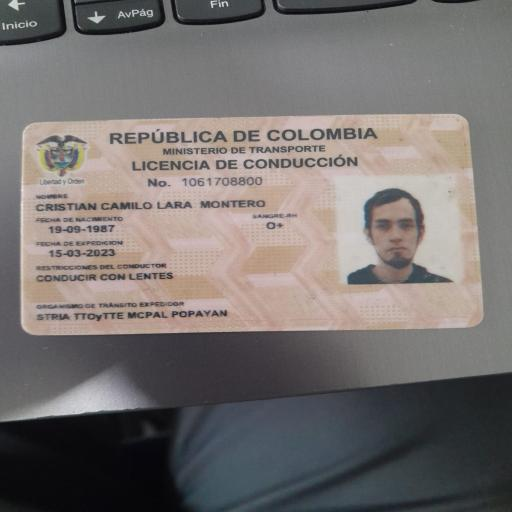colombia: (106, 127, 375, 143)
escudo de colombia: (29, 130, 100, 183)
fechaexpedicion: (45, 248, 133, 259)
fechanacimiento: (42, 224, 128, 234)
foto: (349, 185, 451, 286)
ministerio de transporte: (157, 145, 333, 156)
nombre: (24, 196, 280, 214)
numerolic: (166, 174, 290, 189)
tarjeta conduccion: (22, 114, 485, 335)
titulo licencia: (123, 154, 373, 172)
